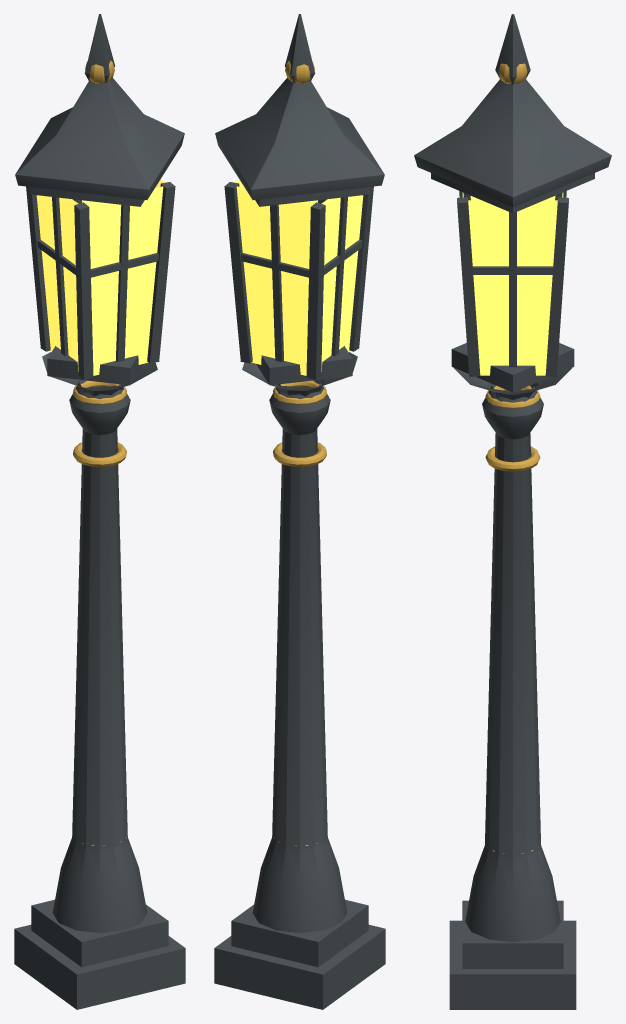
File: 11_street_lantern.glb
3 renders of one model, left to right at view 1: azimuth 30°, elevation 25°; view 2: azimuth 150°, elevation 25°; view 3: azimuth 270°, elevation 25°, orthographic.
Visible parts, largest first — view 1: 11_street_lantern; view 2: 11_street_lantern; view 3: 11_street_lantern.
Boxes of the visible parts, bbox=[...] form: 11_street_lantern: bbox=[14, 14, 185, 1009]; 11_street_lantern: bbox=[214, 14, 385, 1009]; 11_street_lantern: bbox=[414, 14, 611, 1009].
Size of the model in its own units: 0.703 by 3.8 by 0.703.
